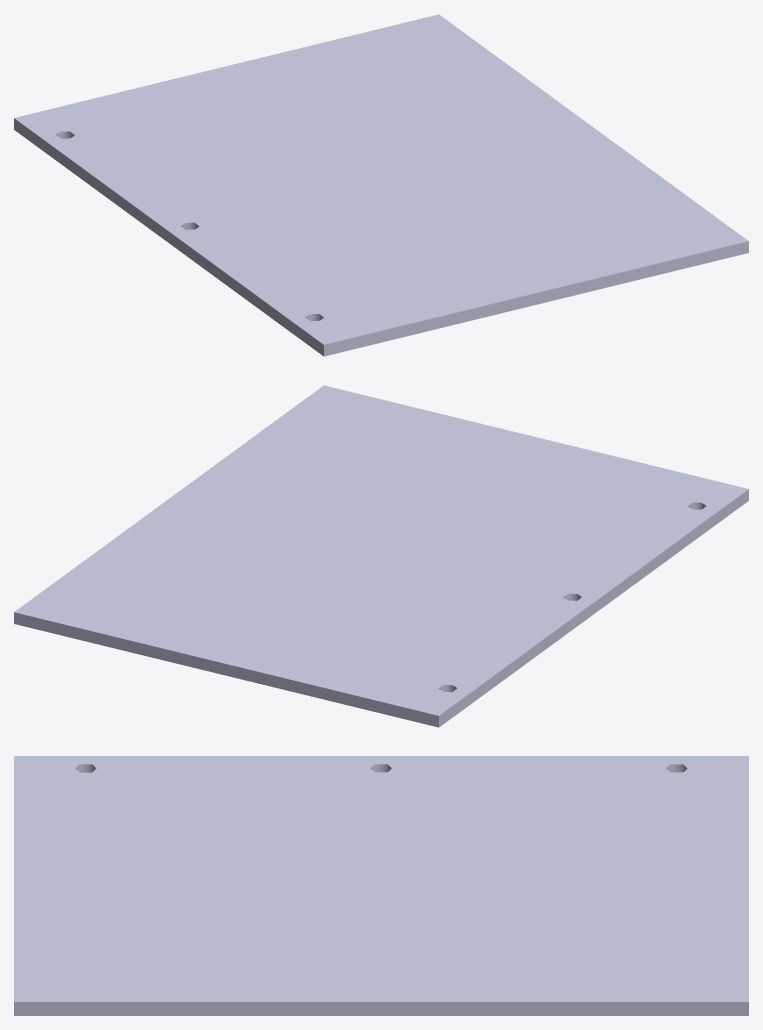
Rendered from Bloc_Hojas.fbx.
3 renders of one model, top to bottom at view 1: azimuth 30°, elevation 25°; view 2: azimuth 150°, elevation 25°; view 3: azimuth 270°, elevation 25°, orthographic. The views are drawn at different scales.
Parts seen in each view (by area): view 1: Bloc_Hojas; view 2: Bloc_Hojas; view 3: Bloc_Hojas.
Part boxes in pixels (x1,y1,x2,y2): Bloc_Hojas: [14, 14, 748, 356]; Bloc_Hojas: [14, 385, 748, 727]; Bloc_Hojas: [14, 756, 748, 1015].
Bounding box in the file's own units: 0.19 × 0.00501 × 0.24.
